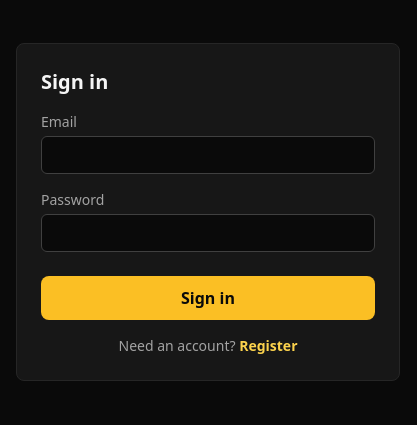
Scenario: Login › surfaces INVALID_CREDENTIALS as a friendly inline error
This screenshot has width=417, height=425.
Step 1. Type "nobody@example.com" into the field labelled "Email" → point(208, 155), box [41, 136, 375, 174]
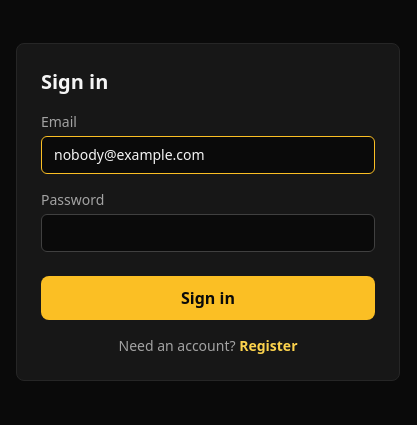
Step 2. Type "wrong-password" into the password field labelled "Password" → point(208, 233), box [41, 214, 375, 252]
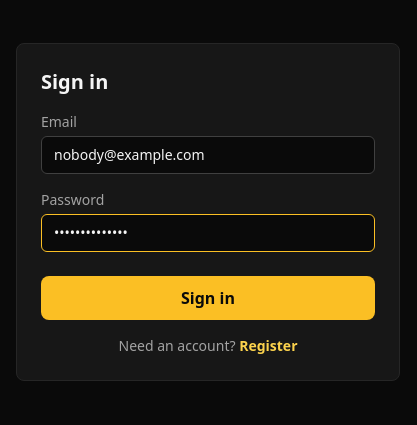
Step 3. Click the button "Sign in" → point(208, 298), box [41, 276, 375, 320]
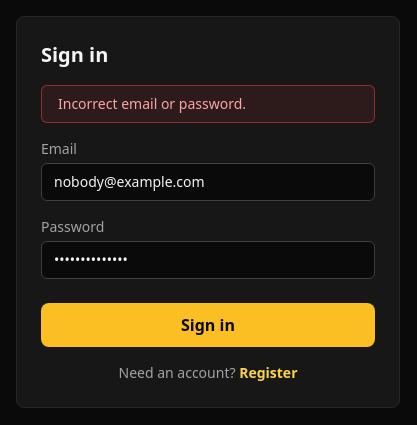
Expected: the message reads "Incorrect email or password.", [58, 94, 246, 113]
